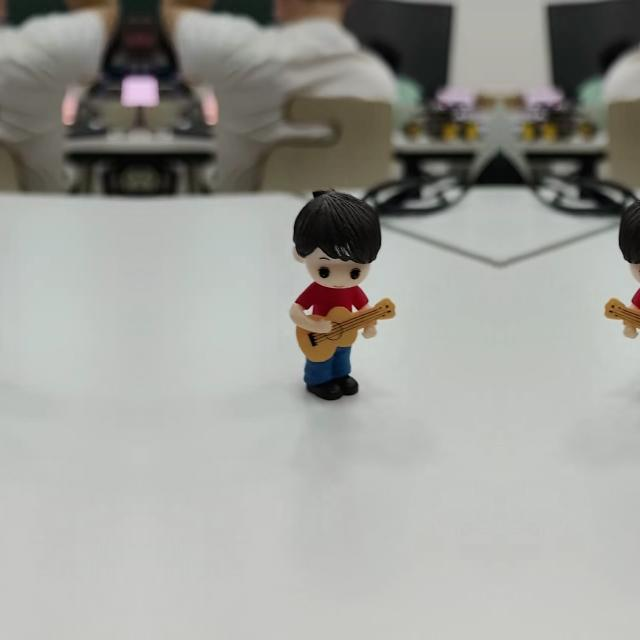man cloth: (288, 280, 372, 318), (628, 280, 640, 318)
man head: (291, 182, 389, 288), (611, 181, 640, 288)
trousers: (300, 338, 358, 404)
